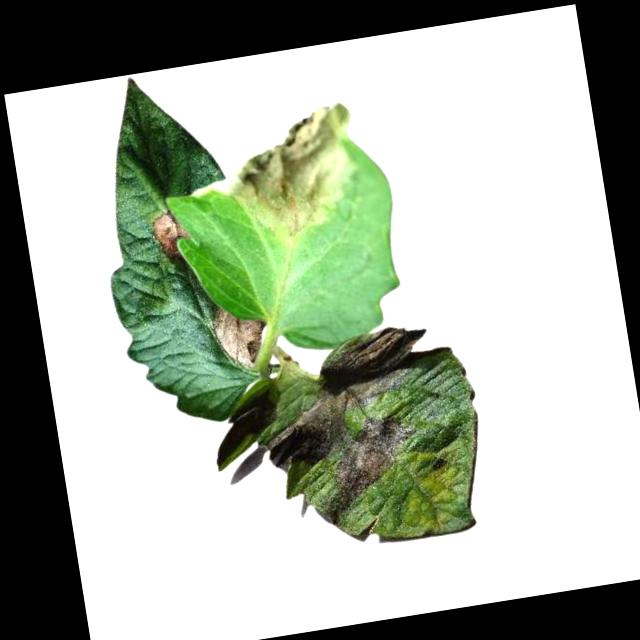Late_blight: (253, 320, 489, 534), (206, 96, 367, 246), (208, 299, 269, 377), (146, 204, 193, 260)
